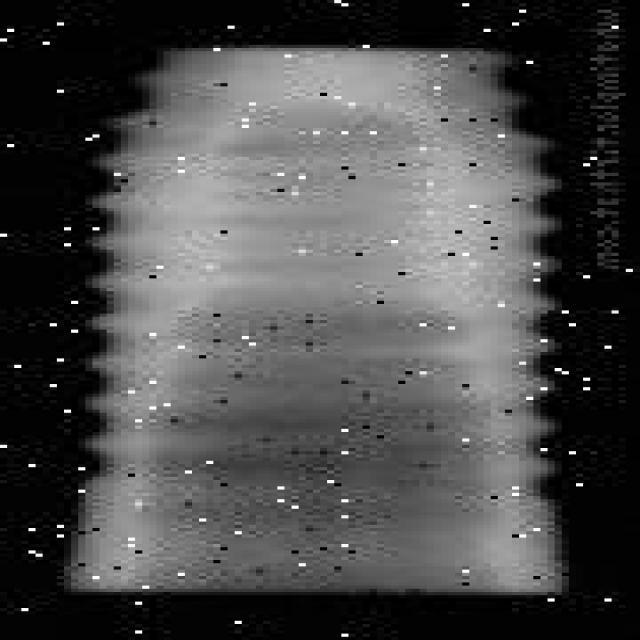Retained root: (64, 39, 577, 596)
